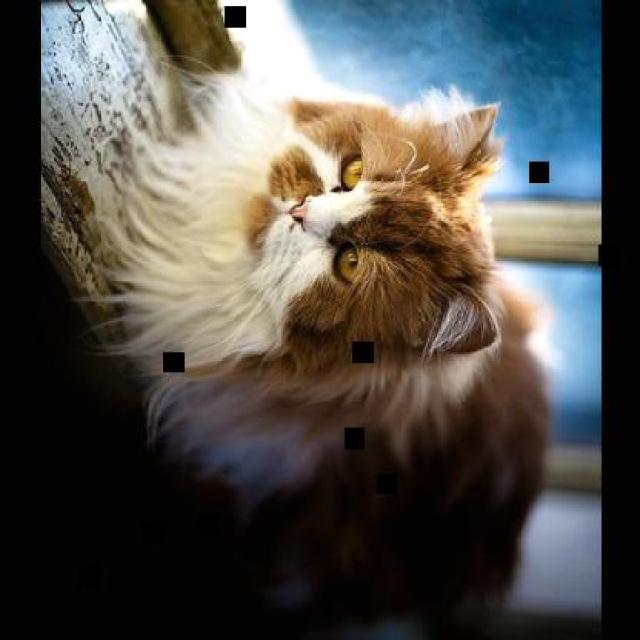unauthorized: (78, 1, 557, 637)
